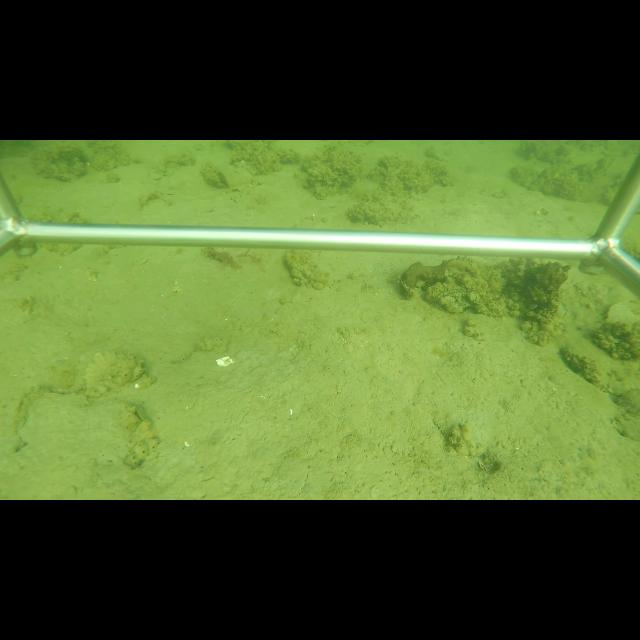Oyster-Closed: (556, 337, 639, 401), (435, 288, 484, 313)
Oyster-Open: (200, 161, 232, 191)
